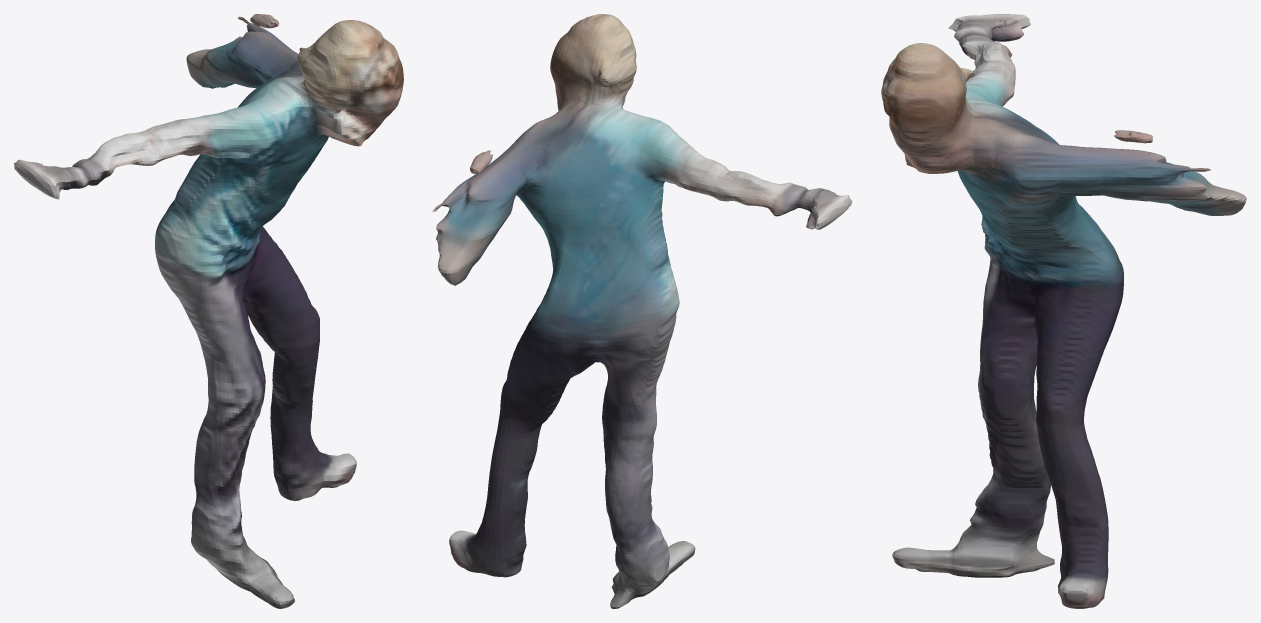
File: 0022_tex.glb
3 renders of one model, left to right at view 1: azimuth 30°, elevation 25°; view 2: azimuth 150°, elevation 25°; view 3: azimuth 270°, elevation 25°, orthographic. The views are drawn at different scales.
Visible parts, largest first — view 1: 0022_tex.obj; view 2: 0022_tex.obj; view 3: 0022_tex.obj.
Part boxes in pixels (x1,y1,x2,y2): 0022_tex.obj: (14, 14, 403, 608); 0022_tex.obj: (432, 14, 852, 608); 0022_tex.obj: (881, 14, 1246, 608).
Bounding box in the file's own units: 0.602 × 0.8862 × 0.5251.
